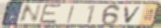1: (86, 4, 97, 25)
6: (100, 3, 123, 26)
E: (37, 4, 63, 25)
I: (66, 4, 77, 24)
N: (16, 3, 43, 24)
V: (123, 6, 144, 25)
